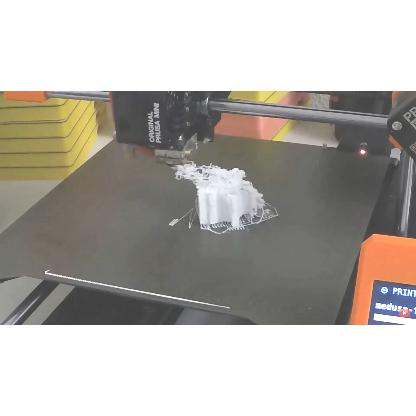fail: (178, 161, 210, 191)
